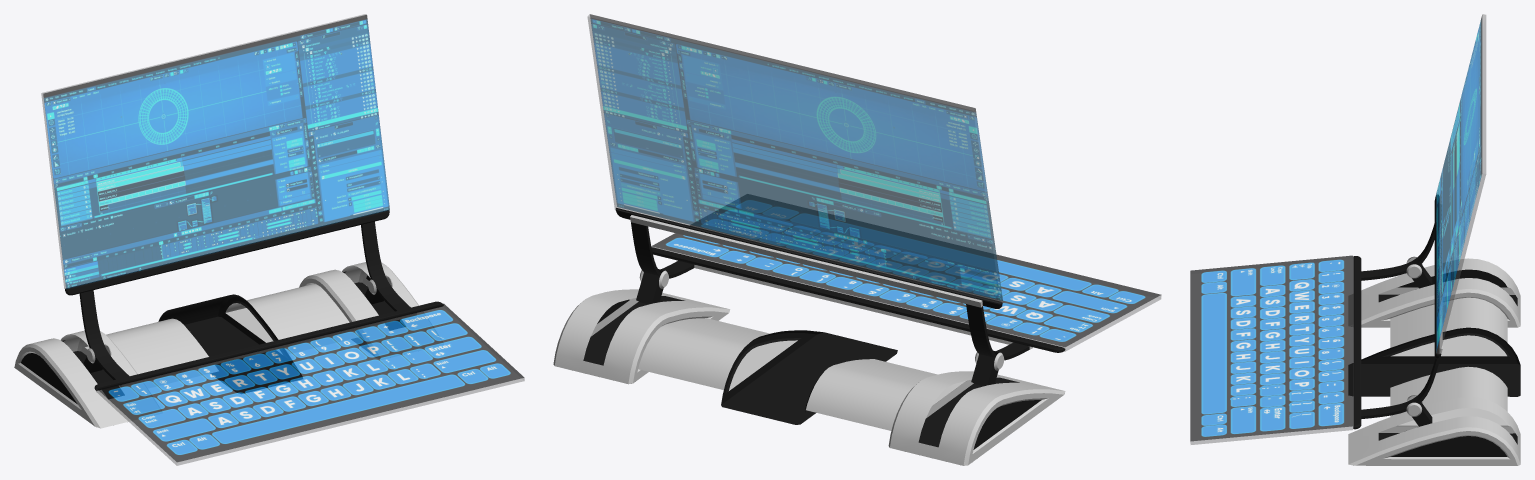
Rendered from computer-console.glb.
3 views of the same model, side by side, from view 1: azimuth 30°, elevation 25°; view 2: azimuth 150°, elevation 25°; view 3: azimuth 270°, elevation 25° (orthographic). The views are drawn at different scales.
Visible parts, largest first — view 1: Plane.002_digital_displays_0, Circle_metal_1_0, Circle_metal_2_0, Plane.002_digital_display_sides_0; view 2: Plane.002_digital_displays_0, Plane.002_digital_display_sides_0, Circle_metal_1_0, Circle_metal_2_0; view 3: Plane.002_digital_displays_0, Circle_metal_1_0, Circle_metal_2_0, Plane.002_digital_display_sides_0.
Boxes of the visible parts, box(x1,y1,x2,y2) form: Plane.002_digital_displays_0: box(43, 15, 523, 462); Circle_metal_1_0: box(14, 262, 443, 428); Circle_metal_2_0: box(21, 210, 443, 404); Plane.002_digital_display_sides_0: box(41, 14, 524, 465); Plane.002_digital_displays_0: box(590, 14, 1160, 346); Plane.002_digital_display_sides_0: box(587, 14, 1161, 351); Circle_metal_1_0: box(553, 215, 1065, 465); Circle_metal_2_0: box(583, 208, 1065, 449); Plane.002_digital_displays_0: box(1190, 15, 1482, 441); Circle_metal_1_0: box(1348, 204, 1520, 465); Circle_metal_2_0: box(1348, 194, 1520, 456); Plane.002_digital_display_sides_0: box(1190, 14, 1485, 444).
Bounding box in the file's own units: 1.48 × 1.16 × 1.21.
4 materials, 1 textured.
